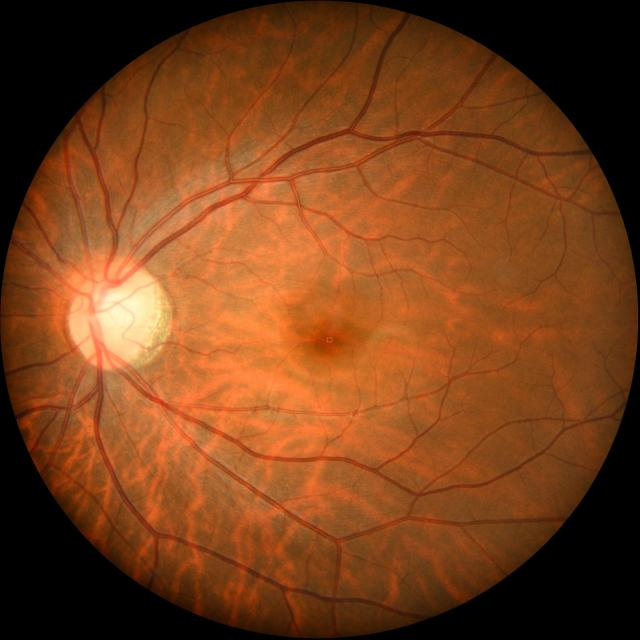OC: (90, 282, 144, 347)
OD: (70, 264, 154, 366)
